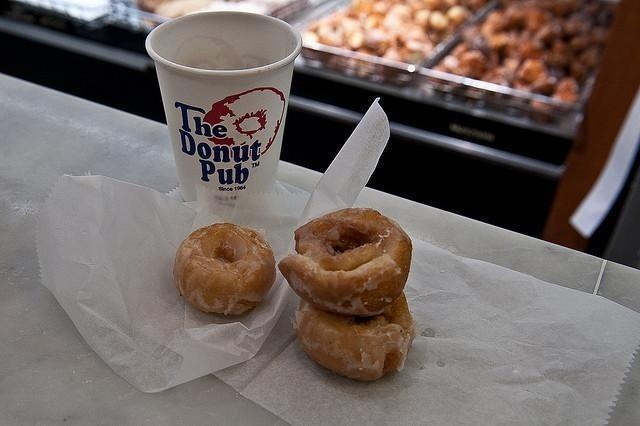cup-disposable: (143, 6, 304, 208)
